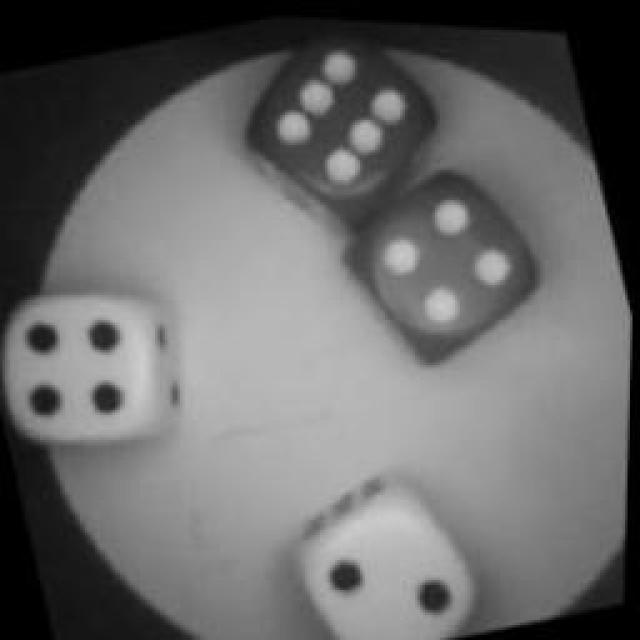dice_2: (261, 445, 509, 640)
dice_4: (332, 155, 556, 380), (0, 255, 210, 473)
dice_6: (202, 10, 456, 248)
